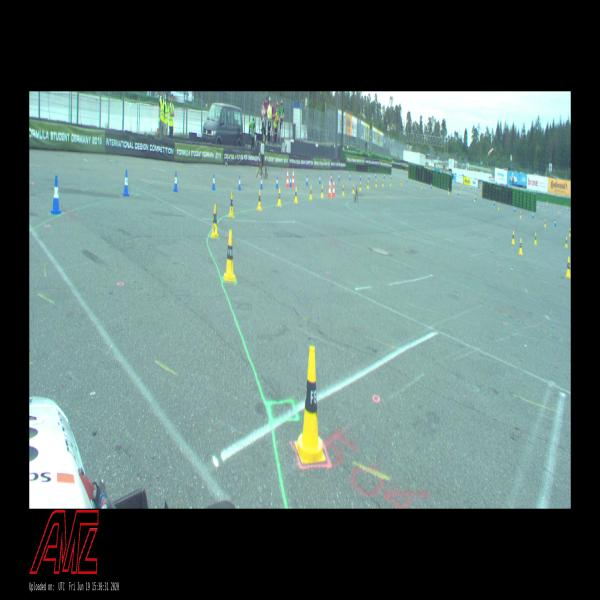blue_cone: (51, 176, 61, 215), (123, 170, 129, 196), (173, 172, 178, 191), (212, 174, 216, 190), (238, 176, 241, 190), (260, 177, 263, 188), (276, 177, 278, 188), (306, 174, 308, 185), (319, 175, 321, 183), (338, 173, 340, 180), (514, 205, 516, 212), (349, 173, 351, 180), (532, 212, 534, 218), (368, 174, 370, 180), (390, 174, 392, 180), (290, 176, 291, 187), (331, 173, 332, 182), (562, 208, 564, 212), (555, 219, 556, 226), (360, 173, 361, 180), (494, 200, 495, 206), (431, 182, 432, 188), (376, 173, 377, 178), (406, 177, 407, 182), (458, 190, 459, 195), (384, 174, 385, 178), (471, 185, 472, 189), (477, 187, 478, 191), (548, 202, 549, 206), (542, 203, 543, 207), (476, 194, 476, 200), (560, 204, 560, 209), (466, 184, 466, 189), (569, 207, 569, 211)
large_orange_cone: (328, 177, 331, 197), (286, 169, 289, 187), (332, 178, 335, 196), (292, 169, 294, 186)
orange_cone: (547, 203, 547, 207)
yellow_cone: (298, 346, 323, 462), (224, 230, 236, 281), (211, 204, 219, 238), (228, 193, 234, 218), (257, 190, 262, 210), (566, 257, 570, 278), (278, 189, 282, 206), (518, 238, 522, 255), (294, 187, 298, 203), (309, 186, 312, 199), (512, 231, 514, 244), (321, 185, 323, 197), (534, 233, 536, 244), (342, 185, 344, 195), (565, 237, 567, 247), (359, 182, 361, 190), (367, 180, 369, 188), (375, 180, 377, 188), (382, 179, 384, 186), (331, 184, 332, 197), (353, 184, 354, 192), (474, 187, 476, 191), (520, 211, 521, 218), (545, 219, 546, 226), (498, 203, 499, 210), (390, 180, 391, 186), (401, 179, 402, 185), (448, 188, 449, 194), (421, 182, 422, 188), (474, 196, 475, 202), (479, 190, 480, 195), (480, 185, 481, 190), (468, 183, 469, 188), (543, 204, 544, 209), (567, 204, 568, 209), (566, 211, 567, 215), (537, 204, 538, 208), (558, 209, 559, 213), (453, 181, 454, 184), (570, 228, 570, 236), (461, 185, 461, 189), (554, 202, 554, 206), (458, 182, 458, 185), (463, 184, 463, 189), (546, 201, 546, 205), (565, 203, 565, 207)
